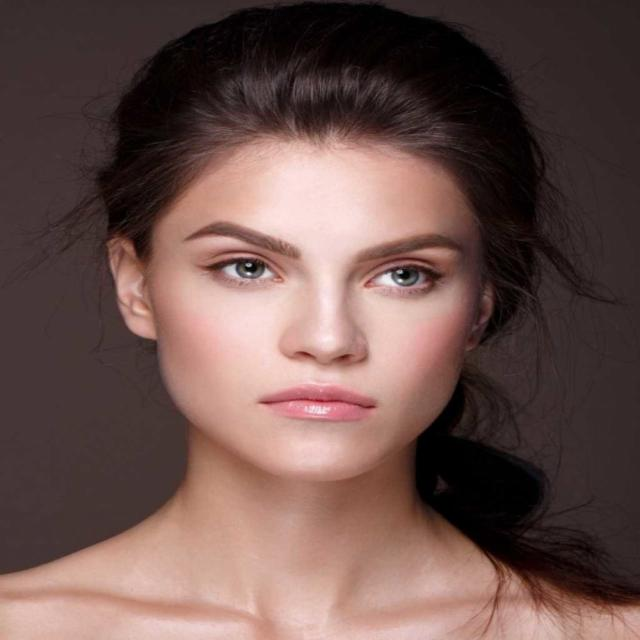earlobe: (121, 301, 158, 341), (466, 322, 484, 351)
eye: (210, 256, 290, 282), (367, 263, 440, 290)
nose: (285, 352, 366, 380)
wholeear: (105, 236, 157, 340), (466, 265, 497, 350)
